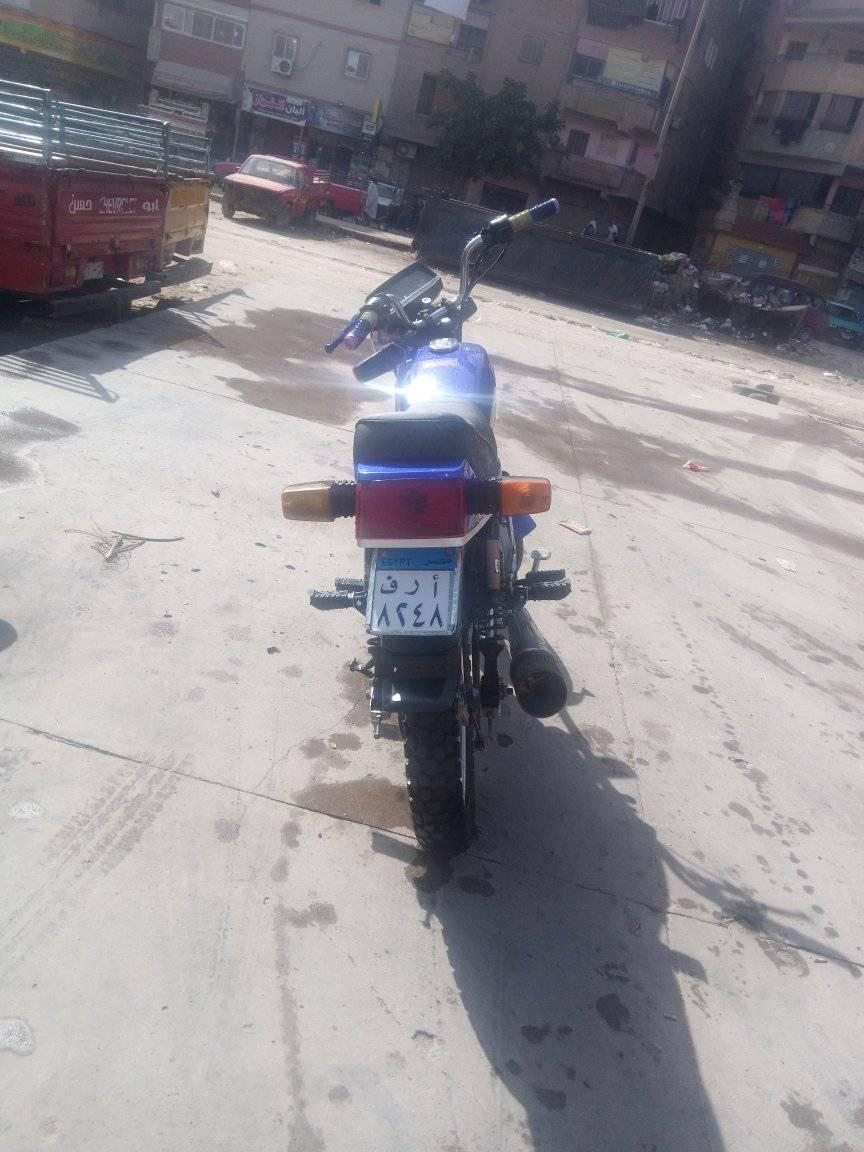License Plate: (370, 544, 462, 636)
